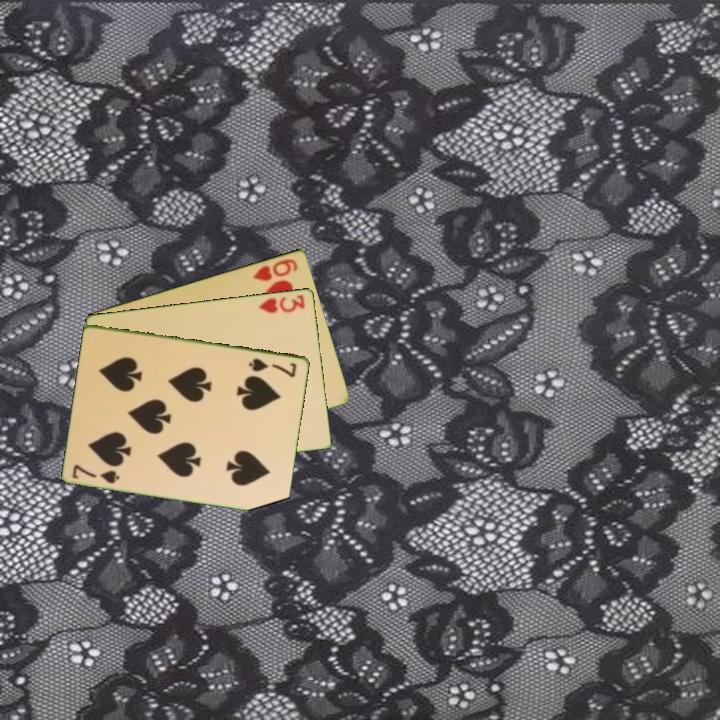3h: (256, 290, 308, 316)
6h: (249, 255, 301, 284)
7s: (246, 354, 300, 380), (69, 461, 122, 486)
